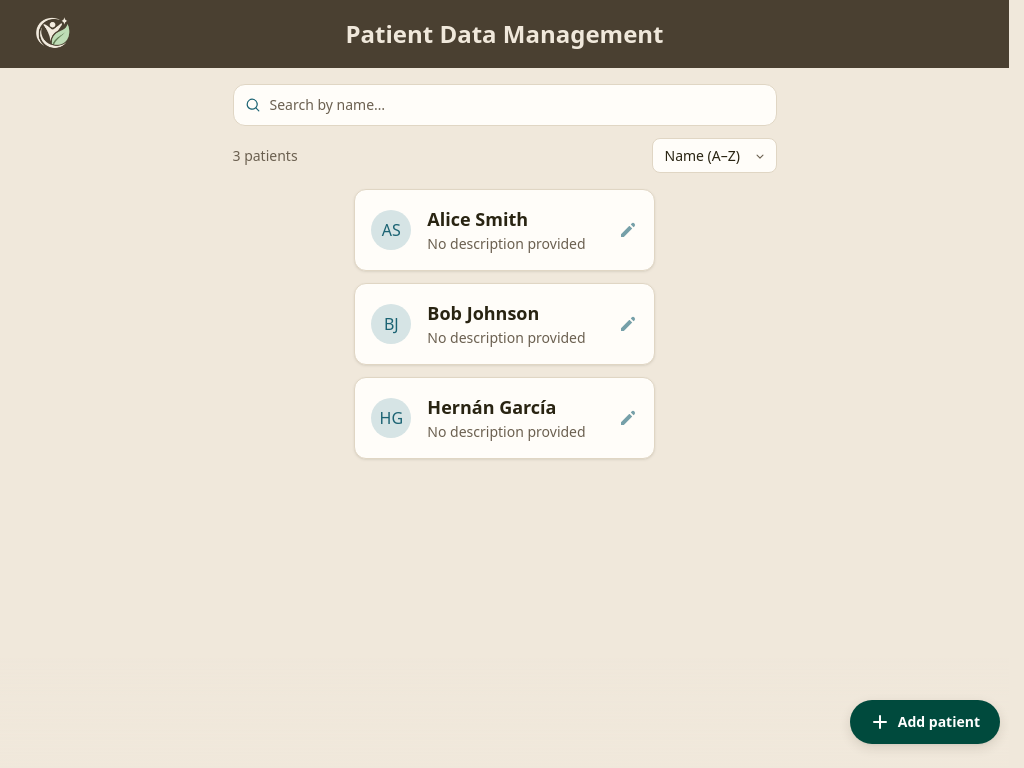
Scenario: App — search and filtering › narrows the list when a search term is typed
The width and height of the screenshot is (1024, 768).
In the field named "search patients": (504, 105) [232,84,776,126], type "alice"
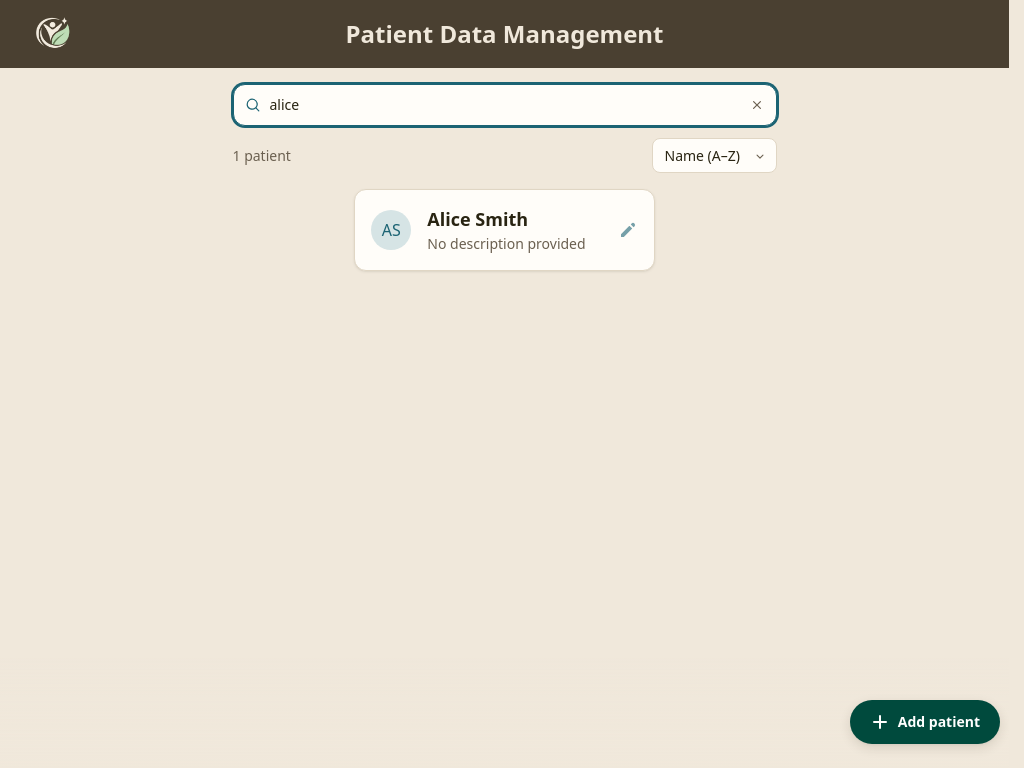
expect the text "Alice Smith" is shown: met, box [427,207,528,231]
expect the button "Bob Johnson" is gone: met
expect the button "Hernán García" is gone: met
